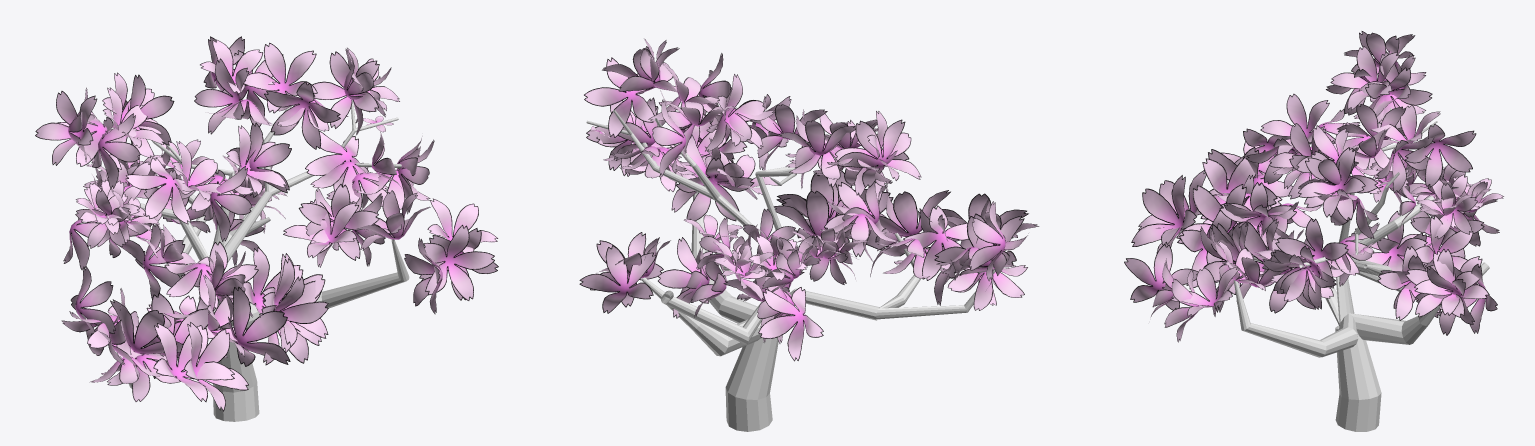
The model's file is Stage 3 Img Asset.fbx.
3 renders of one model, left to right at view 1: azimuth 30°, elevation 25°; view 2: azimuth 150°, elevation 25°; view 3: azimuth 270°, elevation 25°, orthographic. The views are drawn at different scales.
Visible parts, largest first — view 1: Plane.001, Vert.019; view 2: Plane.001, Vert.019; view 3: Plane.001, Vert.019.
Part boxes in pixels (bbox=[...]): Plane.001: bbox=[35, 36, 498, 411]; Vert.019: bbox=[110, 100, 409, 421]; Plane.001: bbox=[579, 38, 1039, 361]; Vert.019: bbox=[586, 109, 995, 431]; Plane.001: bbox=[1124, 31, 1503, 342]; Vert.019: bbox=[1233, 107, 1489, 431].
Bounding box in the file's own units: 1756 × 1428 × 1572.
